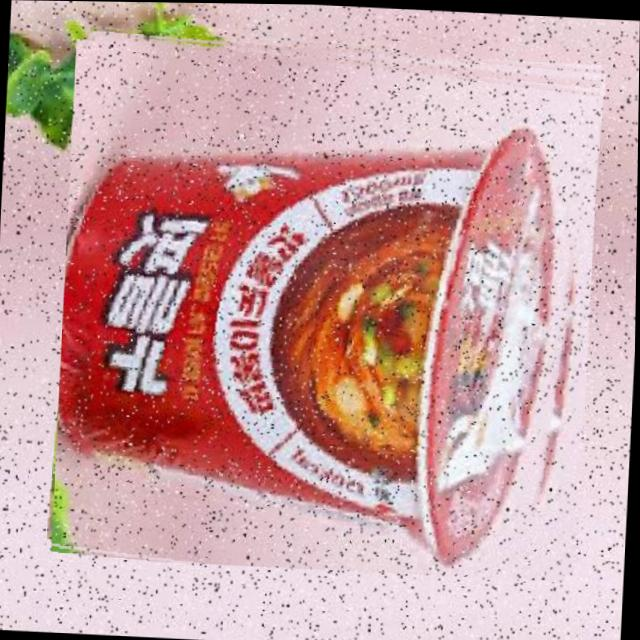Miscellaneous: (52, 31, 602, 580)
